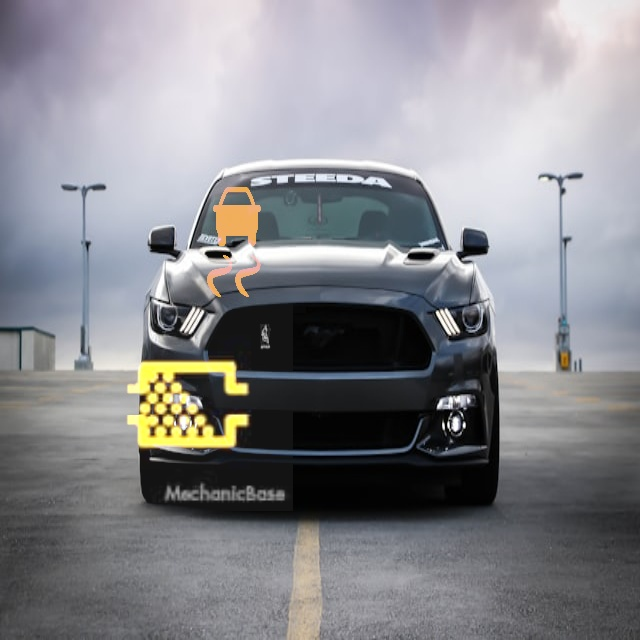symbol: (83, 301, 293, 511), (165, 172, 306, 313)
